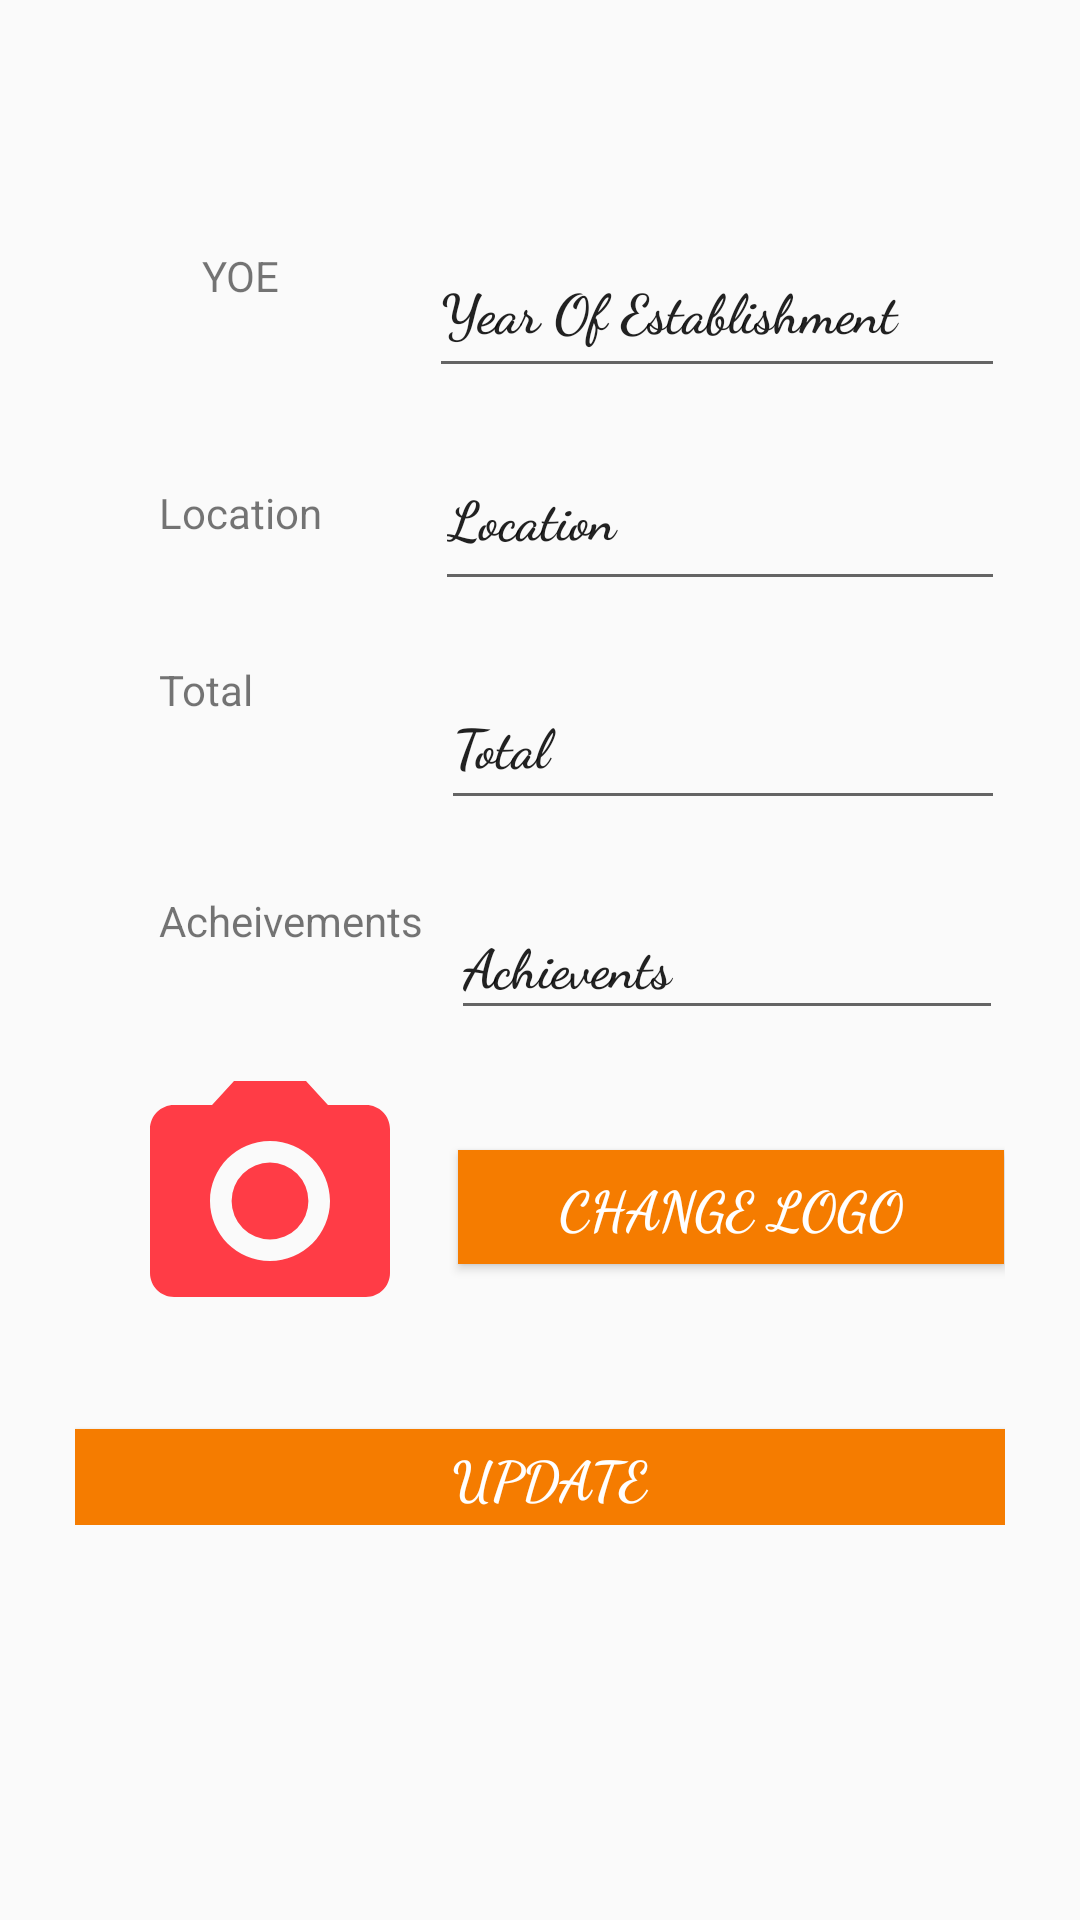

Named icons in this screenshot (1080px×1920px) and their centers, [x,y]:
camera: [270,1189]
